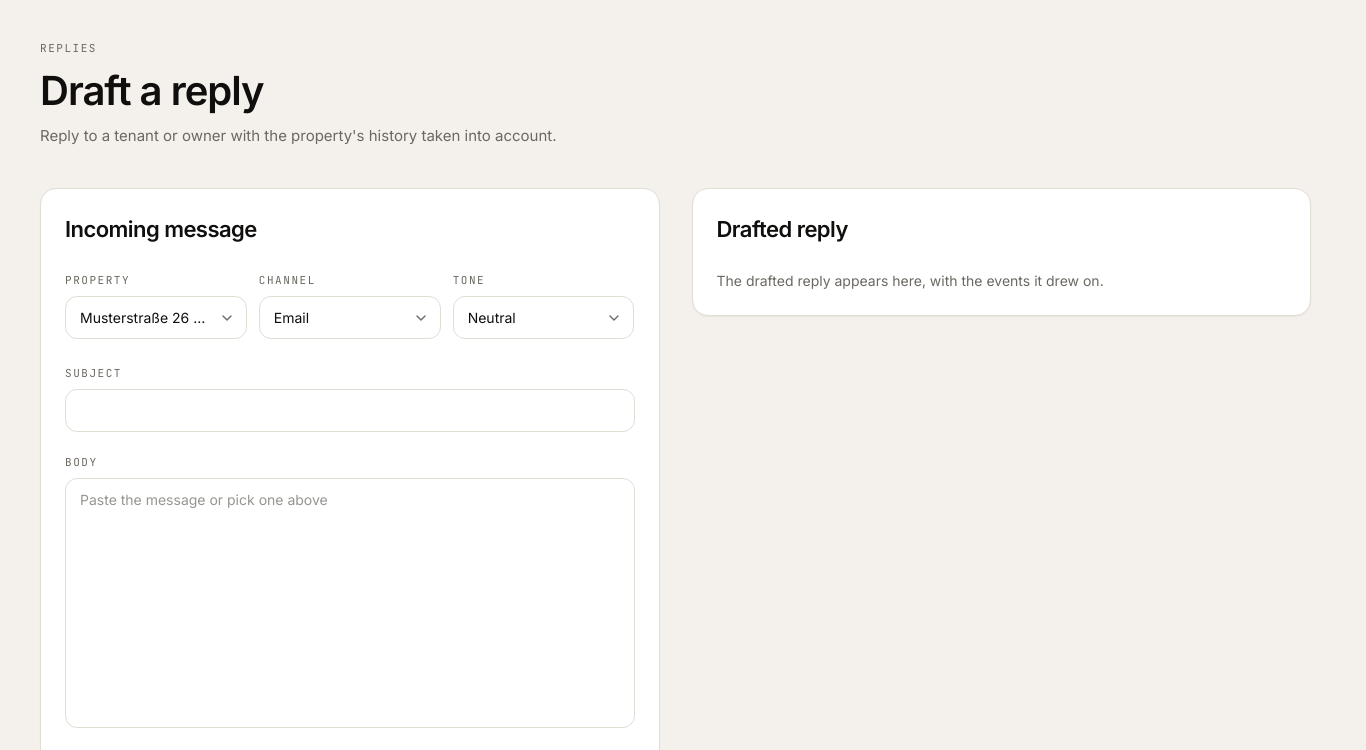
DraftReply › says drafting needs a language model when the API answers 503
Step 1. Type "Die Heizung ist kalt." into the text box labelled "Body" → (350, 603), box [65, 478, 634, 728]
(page scrolled)
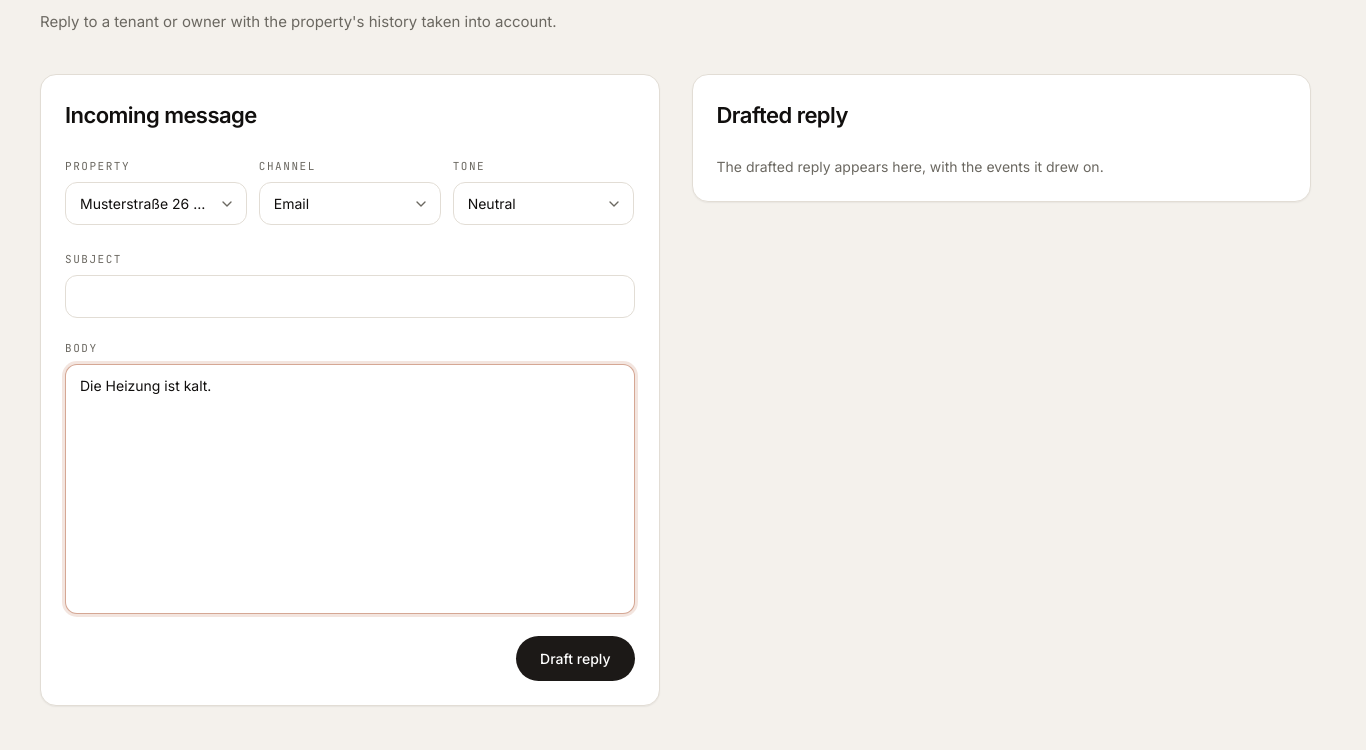
Step 2. Click the button "Draft reply" → (575, 658), box [516, 636, 634, 681]
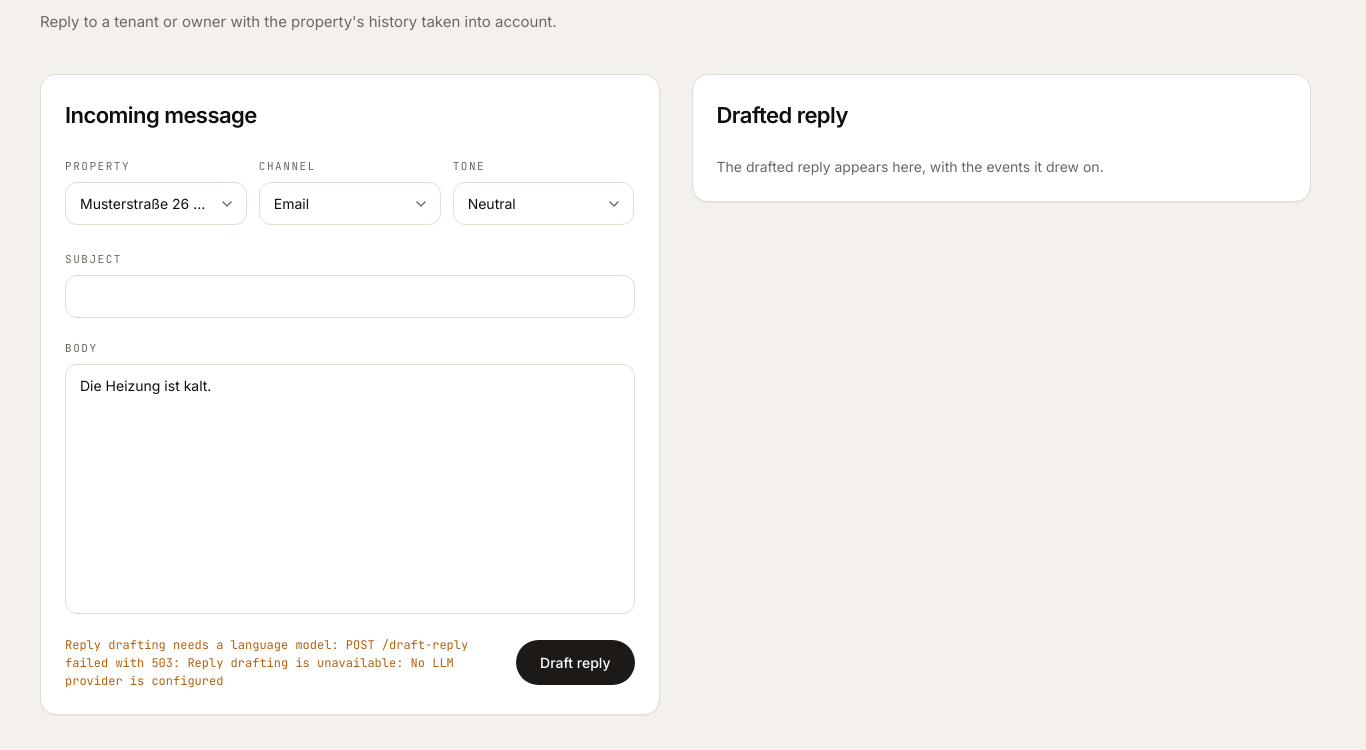
Check: the message does not show "could not be reached", box [65, 636, 504, 690]
Check: the message shows "Reply drafting needs a language model", box [65, 637, 468, 689]
Check: the message shows "No LLM provider is configured", box [65, 637, 468, 689]
